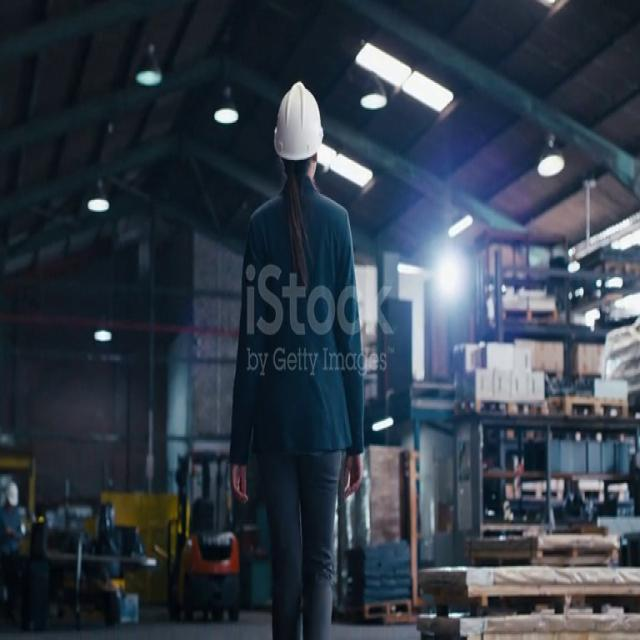capacete: (272, 76, 327, 176)
